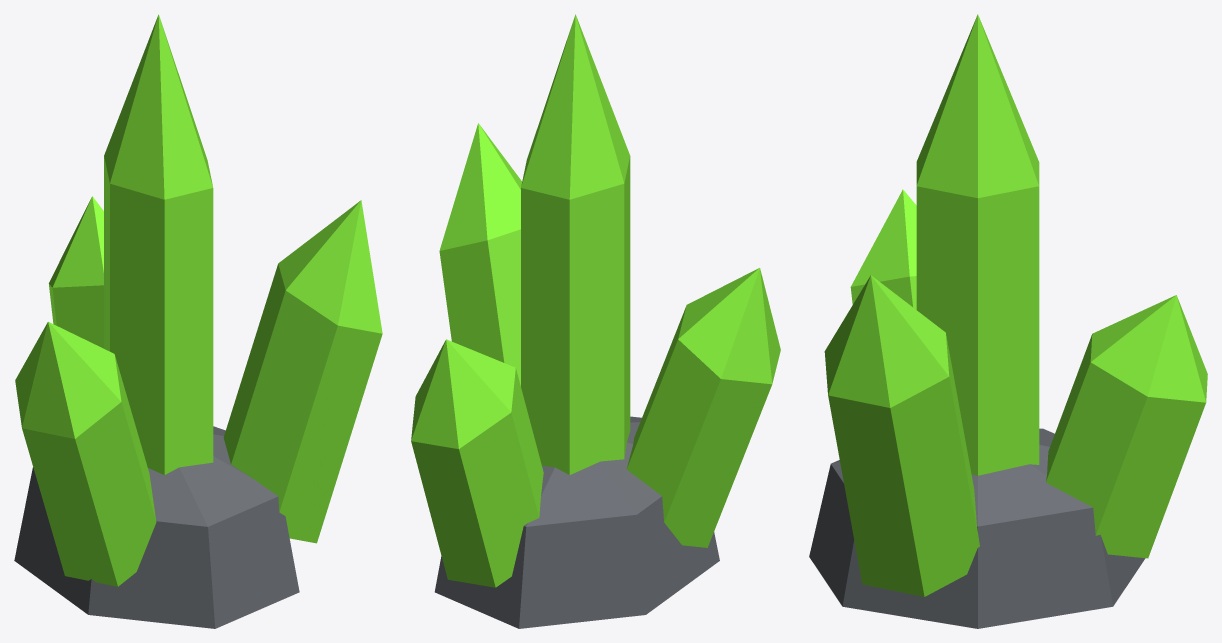
The model's file is env_r11_toxic_crystal.glb.
3 views of the same model, side by side, from view 1: azimuth 30°, elevation 25°; view 2: azimuth 150°, elevation 25°; view 3: azimuth 270°, elevation 25° (orthographic).
Visible parts, largest first — view 1: env_r11_toxic_crystal; view 2: env_r11_toxic_crystal; view 3: env_r11_toxic_crystal.
Part boxes in pixels (x1,y1,x2,y2): env_r11_toxic_crystal: (14,14,382,628); env_r11_toxic_crystal: (411,14,780,628); env_r11_toxic_crystal: (809,14,1207,628).
Size of the model in its own units: 1.3 by 2 by 1.3.
Materials: 1 (1 with a texture image).
